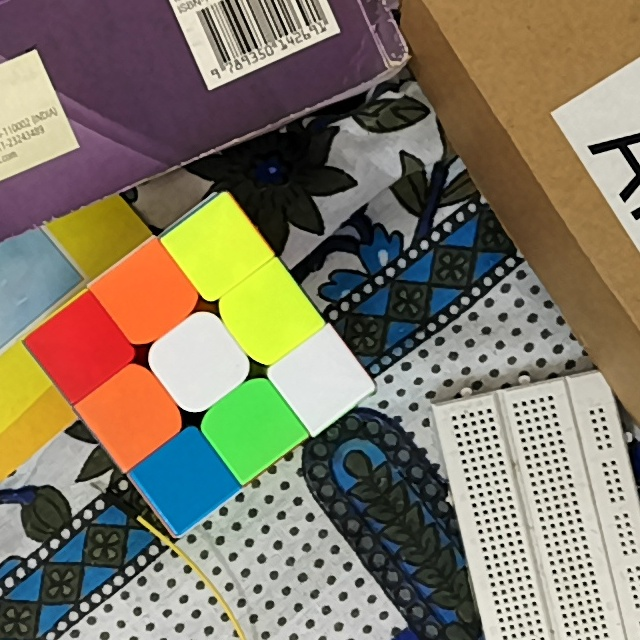tile: (103, 386, 162, 447), (170, 333, 228, 393), (292, 353, 351, 408), (238, 287, 294, 344), (159, 450, 216, 506), (51, 321, 107, 377), (119, 269, 173, 324), (226, 399, 280, 453), (188, 224, 244, 274)
